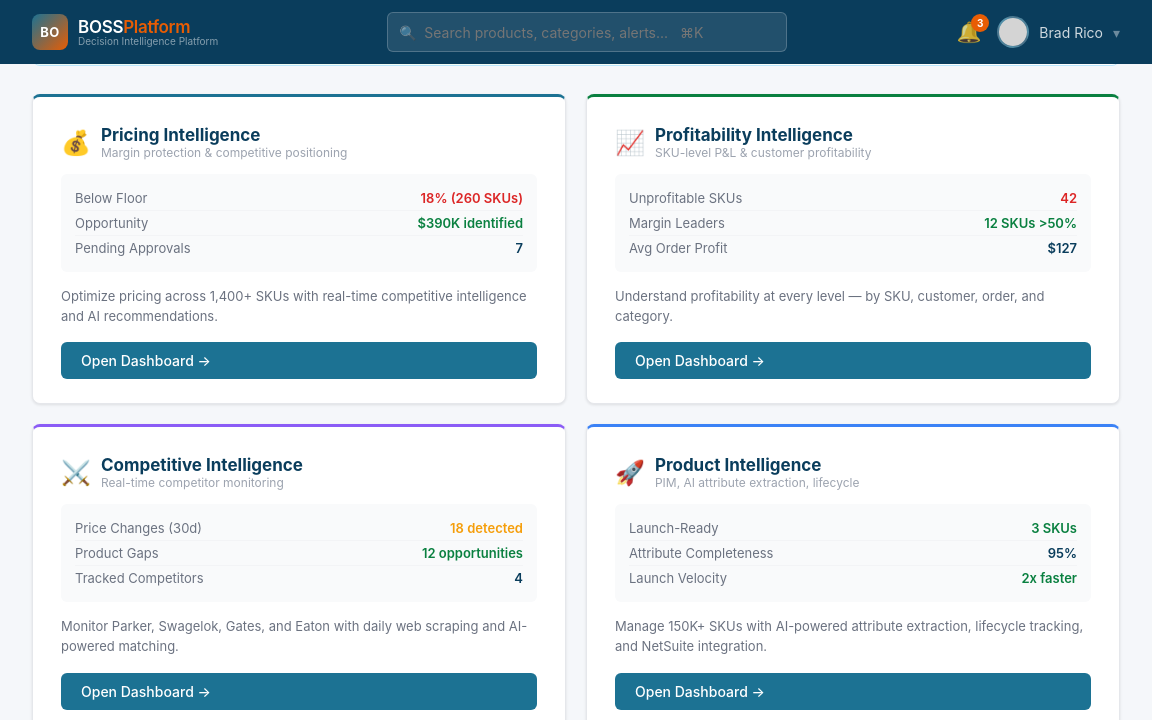
Test: Home Screen Navigation › navigates to Profitability Intelligence
(page scrolled)
Click the button "Open Dashboard →" below "Avg Order Profit". click: [700, 361]
box: [615,342,1091,379]
(page scrolled)
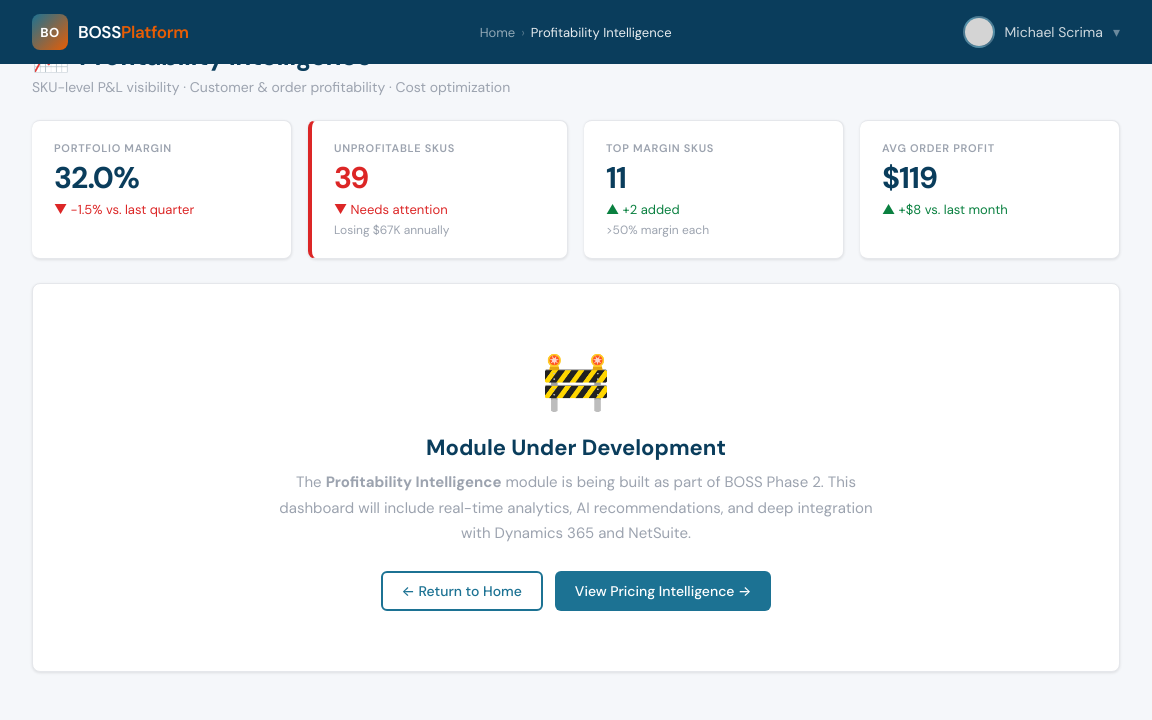
Check: the text "Module Under Development" is shown, box [426,433,726,462]
